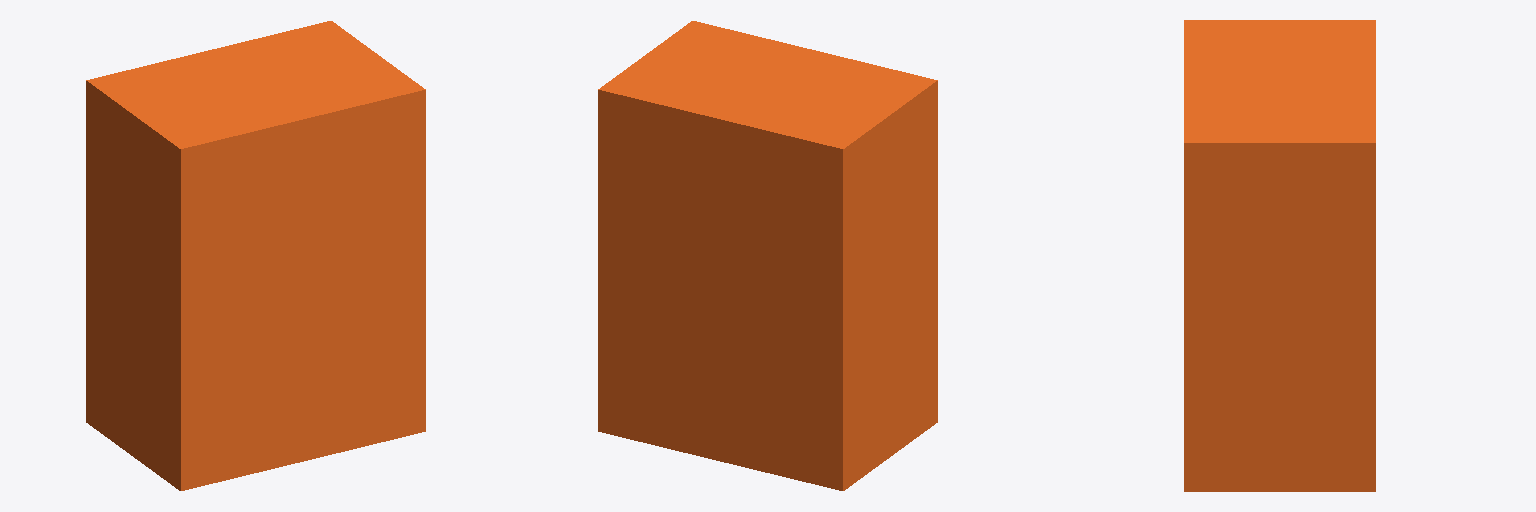
URDF robot description (object):
<?xml version="1.0"?>
<robot name="object">
  <link name="object">
    <visual>
      <origin xyz="0 0 0"/>
      <geometry>
        <!-- 长方体尺寸: 长(x)=6cm, 宽(y)=4cm, 高(z)=8cm -->
        <box size="0.06 0.04 0.08"/>
      </geometry>
      <material name="orange">
        <color rgba="1.0 0.5 0.2 1.0"/>
      </material>
    </visual>
    <collision>
      <origin xyz="0 0 0"/>
      <geometry>
        <!-- 碰撞几何与视觉几何相同 -->
        <box size="0.06 0.04 0.08"/>
      </geometry>
    </collision>
    <inertial>
      <!-- 密度: 567 kg/m³ (与原始立方体相同) -->
      <density value="567.0"/>
    </inertial>
  </link>
</robot>

--- Render facts (derived) ---
Views: 3 orthographic renders of the robot side by side, from view 1: azimuth 30°, elevation 25°; view 2: azimuth 150°, elevation 25°; view 3: azimuth 270°, elevation 25°.
Robot: object — 1 links, 0 joints (none); root link object; default pose: every joint at zero.
Visible links, largest first — view 1: object; view 2: object; view 3: object.
Link boxes in pixels (box(x1,y1,x2,y2)): object: box(86, 21, 425, 490); object: box(598, 21, 937, 490); object: box(1184, 20, 1375, 491).
Size in the robot's own frame: 0.06 by 0.04 by 0.08 metres.
Geometry: primitives only (box / cylinder / sphere), no mesh files.
